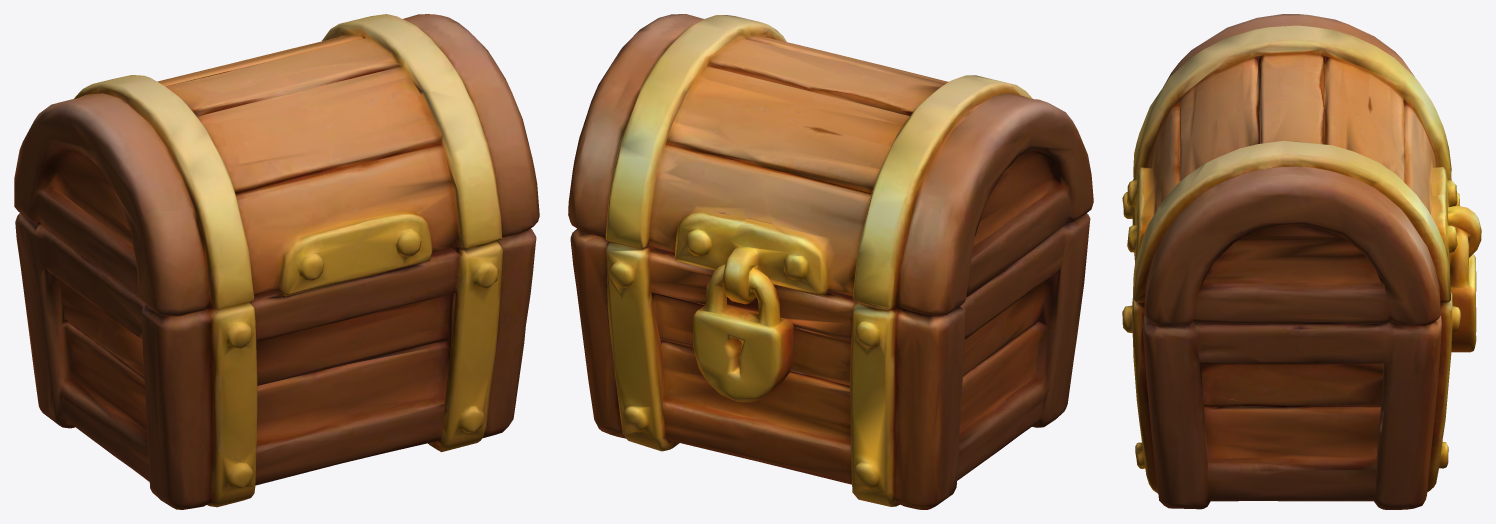
File: gold-chest.glb
3 views of the same model, side by side, from view 1: azimuth 30°, elevation 25°; view 2: azimuth 150°, elevation 25°; view 3: azimuth 270°, elevation 25° (orthographic). The views are drawn at different scales.
Parts seen in each view (by area): view 1: tripo_node_56b4980b-c46f-4c4c-be43-27bd76265289; view 2: tripo_node_56b4980b-c46f-4c4c-be43-27bd76265289; view 3: tripo_node_56b4980b-c46f-4c4c-be43-27bd76265289.
Boxes of the visible parts, bbox=[...] form: tripo_node_56b4980b-c46f-4c4c-be43-27bd76265289: bbox=[14, 14, 539, 509]; tripo_node_56b4980b-c46f-4c4c-be43-27bd76265289: bbox=[568, 14, 1093, 509]; tripo_node_56b4980b-c46f-4c4c-be43-27bd76265289: bbox=[1122, 14, 1481, 509].
Size of the model in its own units: 1.05 by 0.9616 by 0.898.
Materials: 1 (1 with a texture image).
